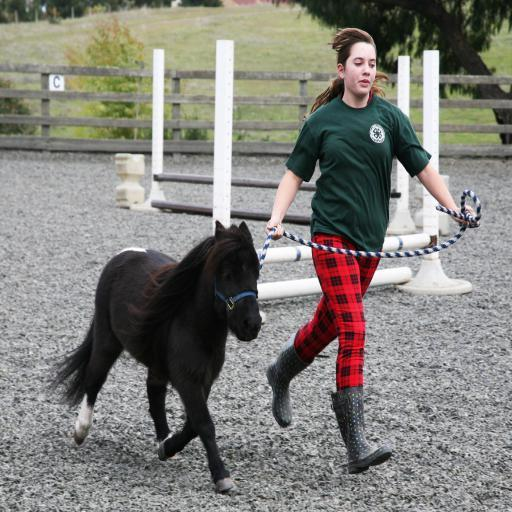horse: (44, 217, 266, 496)
